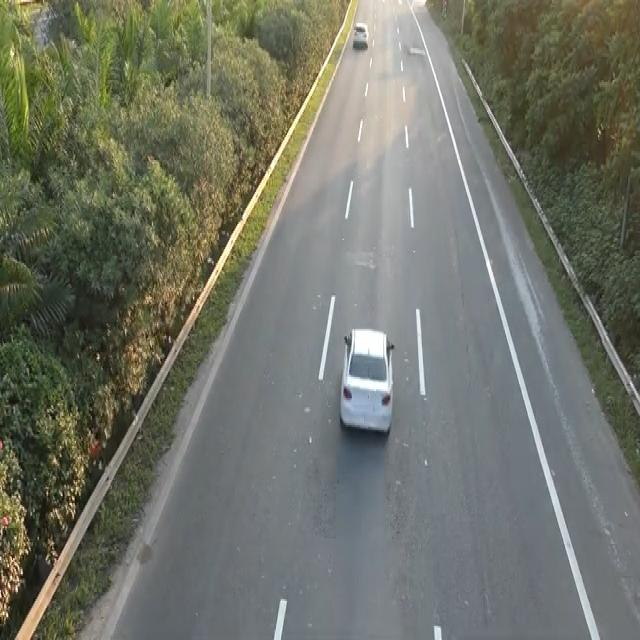bus: (337, 322, 395, 436)
